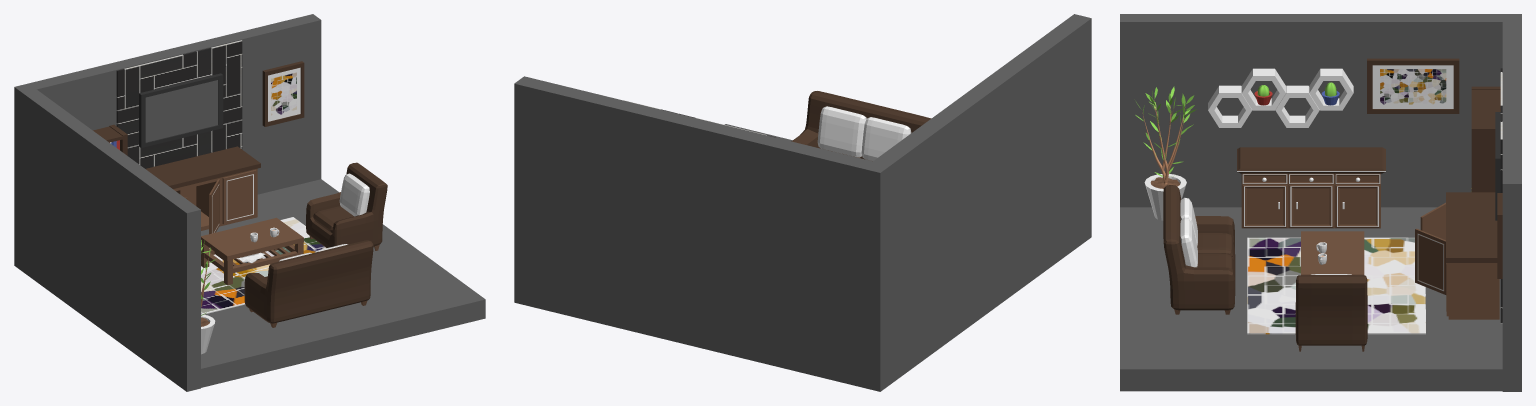
File: low_poly_living_room.glb
3 renders of one model, left to right at view 1: azimuth 30°, elevation 25°; view 2: azimuth 150°, elevation 25°; view 3: azimuth 270°, elevation 25°, orthographic. The views are drawn at different scales.
Visible parts, largest first — view 1: Wall, Wall tile, Sofa, Single sofa, TV, Table, Cupboard.001, Carpet, Picture 2, Cupboard.004, Plant, Cupboard.003 (+1 smaller); view 2: Wall, Sofa; view 3: Wall, Cupboard, Carpet, Sofa, Cupboard.001, Picture 1, Single sofa, Wallshelf, Bookshelf, Table, Plant, Cupboard.003 (+4 smaller).
Boxes of the visible parts, <box> form: Wall: <box>14,14,485,391</box>; Wall tile: <box>116,40,242,168</box>; Sofa: <box>244,240,373,327</box>; Single sofa: <box>306,162,387,250</box>; TV: <box>139,73,223,147</box>; Table: <box>201,217,303,285</box>; Cupboard.001: <box>146,146,260,230</box>; Carpet: <box>201,217,326,314</box>; Picture 2: <box>262,61,304,126</box>; Cupboard.004: <box>222,170,256,224</box>; Plant: <box>201,240,216,354</box>; Cupboard.003: <box>209,179,219,234</box>; Wall: <box>514,14,1091,391</box>; Sofa: <box>791,91,931,161</box>; Wall: <box>1120,14,1521,391</box>; Cupboard: <box>1237,147,1385,228</box>; Carpet: <box>1247,237,1425,334</box>; Sofa: <box>1163,185,1235,314</box>; Cupboard.001: <box>1446,192,1499,319</box>; Picture 1: <box>1367,58,1459,113</box>; Single sofa: <box>1295,274,1367,351</box>; Wallshelf: <box>1208,68,1353,127</box>; Bookshelf: <box>1471,86,1500,192</box>; Table: <box>1301,231,1364,275</box>; Plant: <box>1135,86,1196,220</box>; Cupboard.003: <box>1415,228,1446,294</box>.
Size of the model in its own units: 10.5 by 6 by 10.5.
14 materials, 2 textured.
